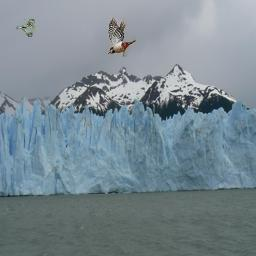Sparrow: (16, 19, 35, 37)
Woodpecker: (108, 17, 136, 57)
